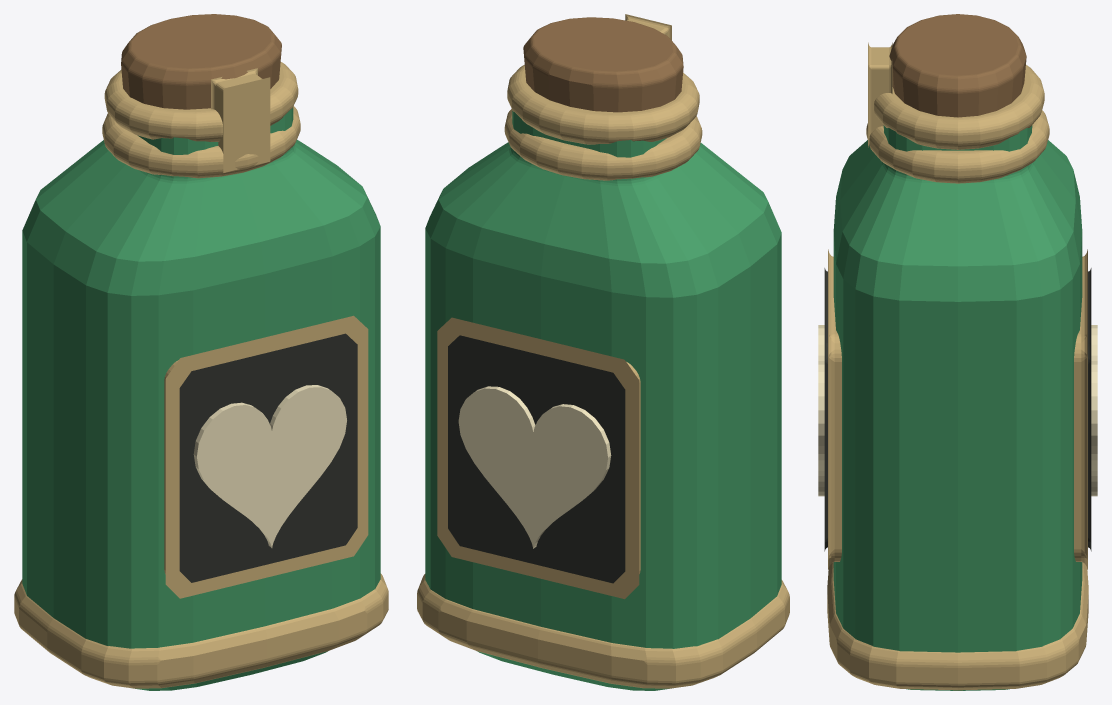
File: elixir_vigour.glb
3 views of the same model, side by side, from view 1: azimuth 30°, elevation 25°; view 2: azimuth 150°, elevation 25°; view 3: azimuth 270°, elevation 25° (orthographic).
Parts seen in each view (by area): view 1: elixir_vigour; view 2: elixir_vigour; view 3: elixir_vigour.
Boxes of the visible parts, box(x1,y1,x2,y2) form: elixir_vigour: box(14, 14, 388, 690); elixir_vigour: box(417, 14, 789, 690); elixir_vigour: box(818, 14, 1097, 690).
Size of the model in its own units: 0.432 by 0.8 by 0.342.
